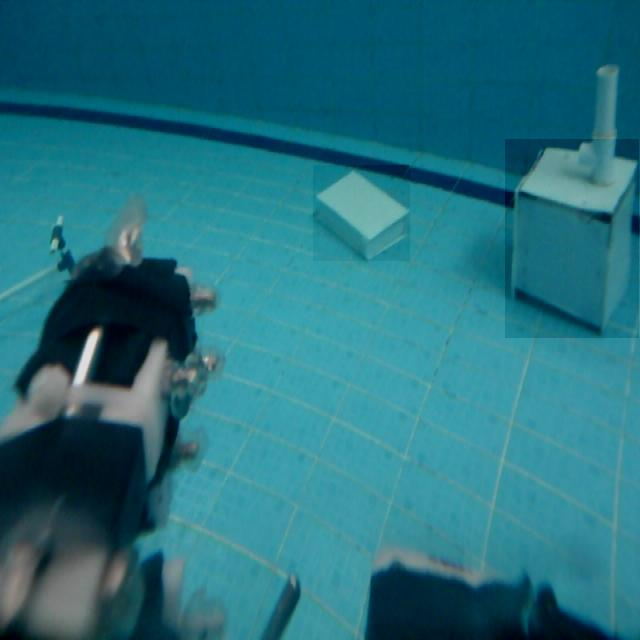Cube: (505, 139, 639, 338)
Cuboid: (313, 166, 410, 262)
